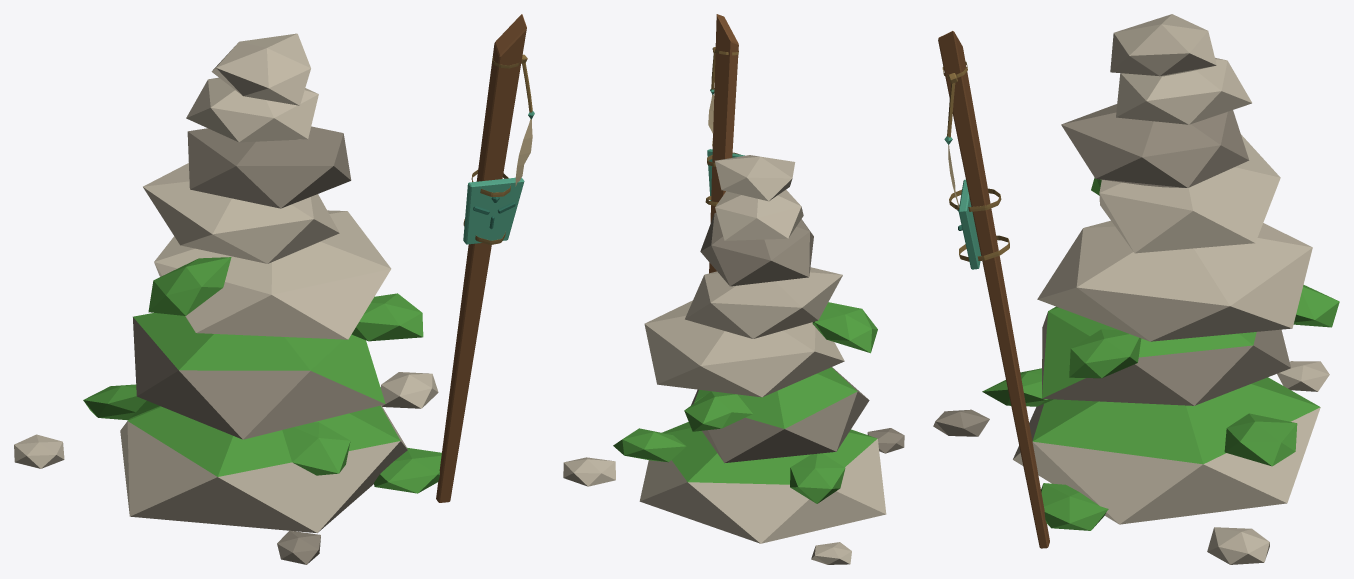
The model's file is cairn.glb.
3 views of the same model, side by side, from view 1: azimuth 30°, elevation 25°; view 2: azimuth 150°, elevation 25°; view 3: azimuth 270°, elevation 25° (orthographic). The views are drawn at different scales.
Visible parts, largest first — view 1: Stones, Marker, Charm; view 2: Stones, Marker; view 3: Stones, Marker.
Boxes of the visible parts, x1,y1,x2,y2 form: Stones: (14,33,441,564); Marker: (436,14,527,502); Charm: (515,63,534,186); Stones: (563,155,904,564); Marker: (705,14,744,273); Stones: (933,14,1339,564); Marker: (938,31,1049,548).
Size of the model in its own units: 0.9853 by 1.23 by 0.8527.
